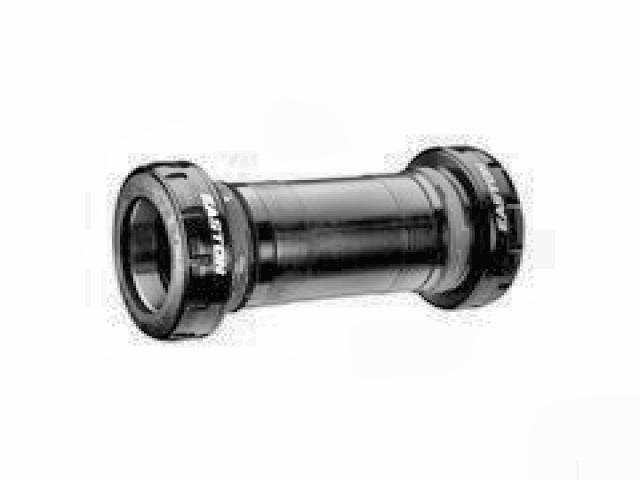bottom_bracket: (107, 142, 528, 349)
